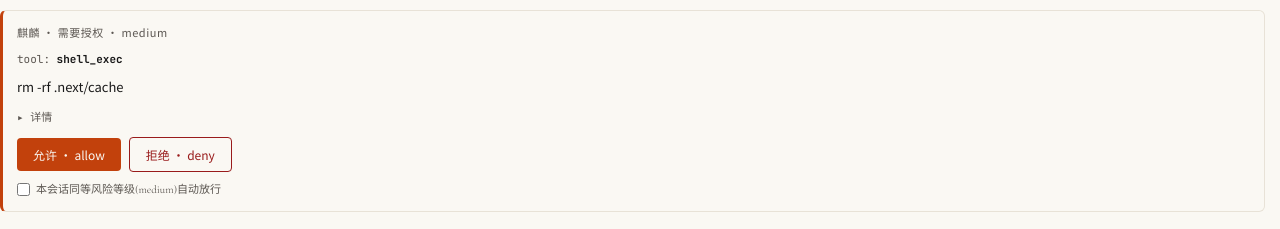
Scenario: InlineApproval — Iter F 交互 primitives › allow + always-allow checkbox sends allow_always_medium
The width and height of the screenshot is (1280, 229).
Click the checkbox labelled "本会话同等风险等级(medium)自动放行" at [24, 190], box x1=17 y1=183 x2=30 y2=196
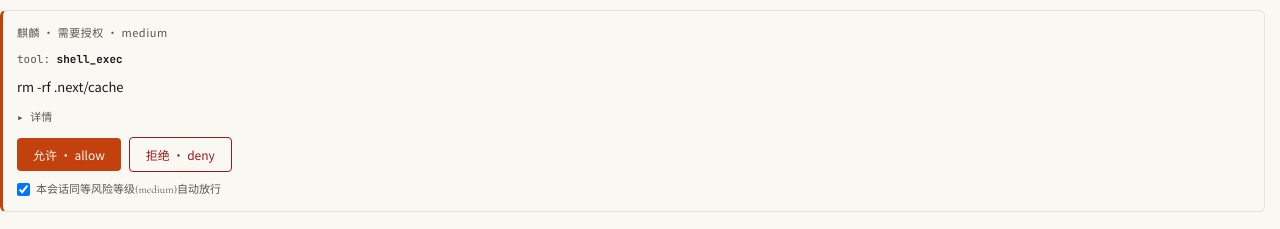
Click the button with test id "inline-approval-allow" at [69, 154], box x1=17 y1=138 x2=121 y2=171
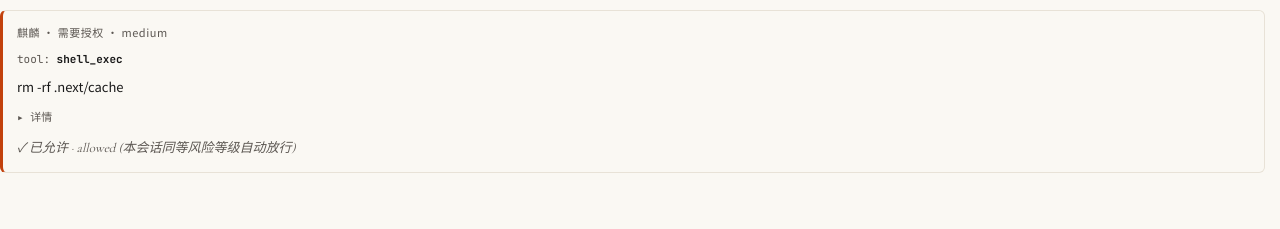
Expected: the text "✓ 已允许 · allowed (本会话同等风险等级自动放行)" is shown, x1=17 y1=140 x2=296 y2=156
